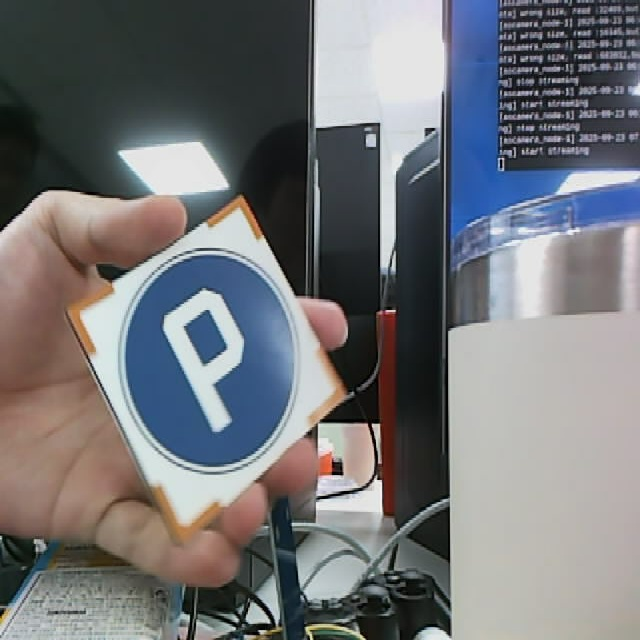parking: (62, 193, 352, 539)
